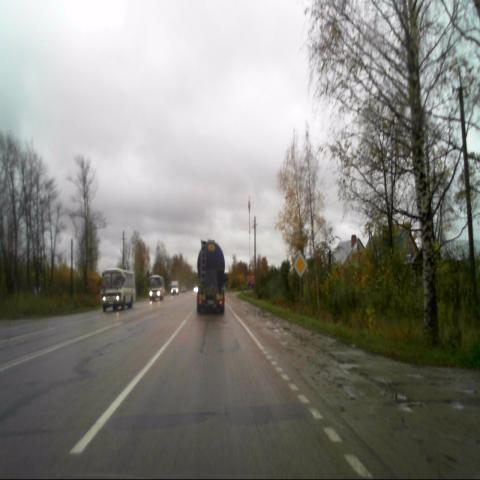2_1: (294, 253, 306, 277)
